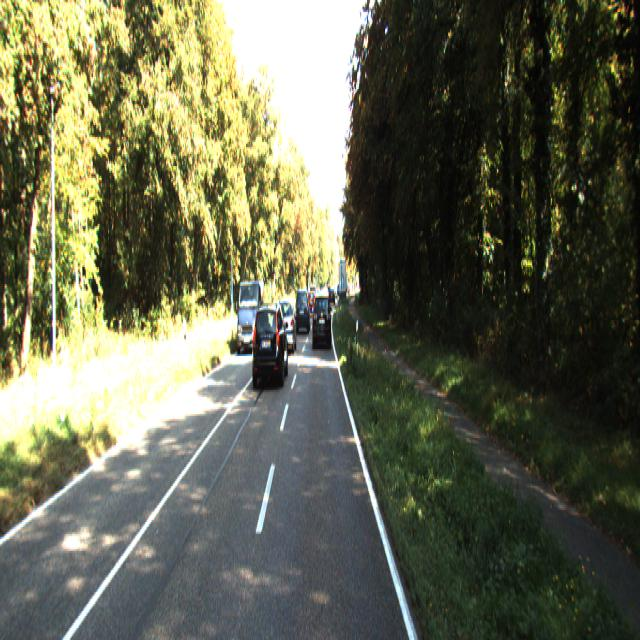Car: (251, 297, 289, 387), (237, 277, 267, 353), (276, 295, 296, 352), (313, 291, 332, 347), (294, 286, 310, 330)
